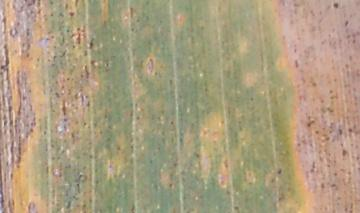tarspot: (87, 37, 95, 50), (66, 10, 77, 18), (331, 2, 340, 11), (276, 167, 283, 176)
